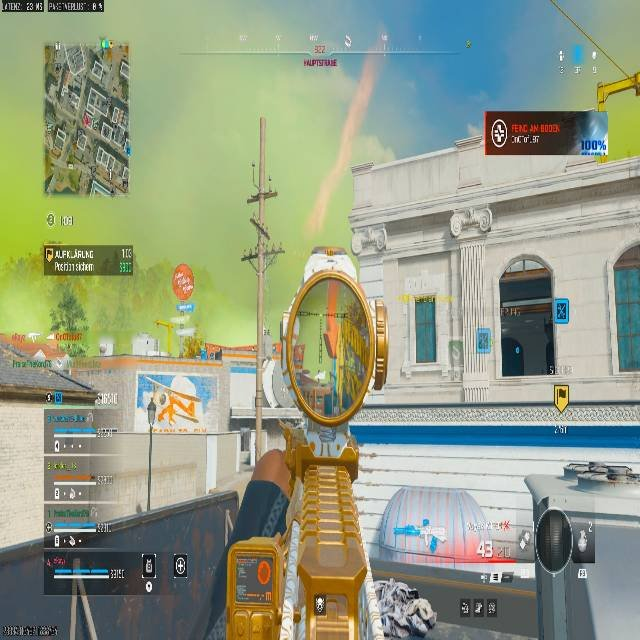head: (406, 598, 437, 635)
